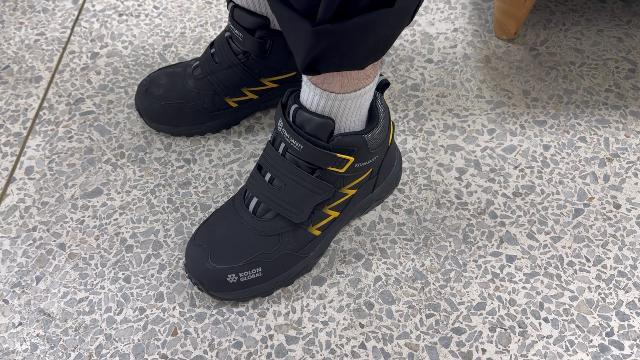shoe_worn: (180, 79, 407, 306), (134, 3, 346, 138)
